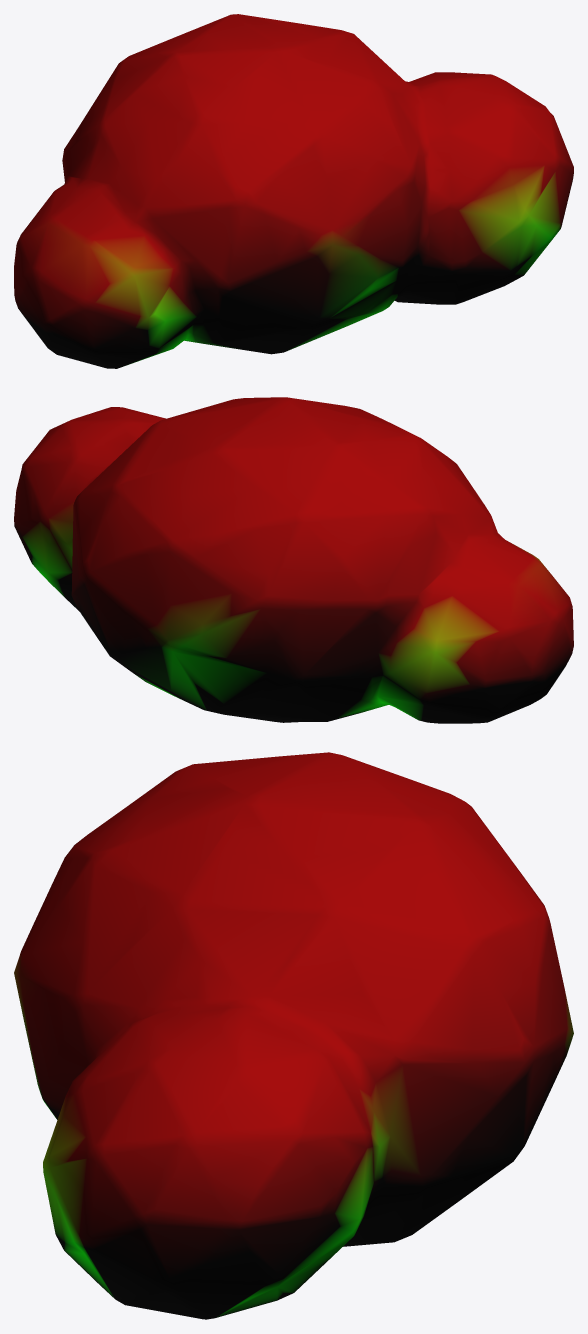
The model's file is bg-volcano-b.glb.
3 views of the same model, one above another, from view 1: azimuth 30°, elevation 25°; view 2: azimuth 150°, elevation 25°; view 3: azimuth 270°, elevation 25° (orthographic). The views are drawn at different scales.
Visible parts, largest first — view 1: rocksMesh; view 2: rocksMesh; view 3: rocksMesh.
Part boxes in pixels (<box>): rocksMesh: <box>14,14,573,368</box>; rocksMesh: <box>14,397,573,723</box>; rocksMesh: <box>14,752,573,1319</box>.
Bounding box in the file's own units: 4.46 × 2.34 × 2.8.
